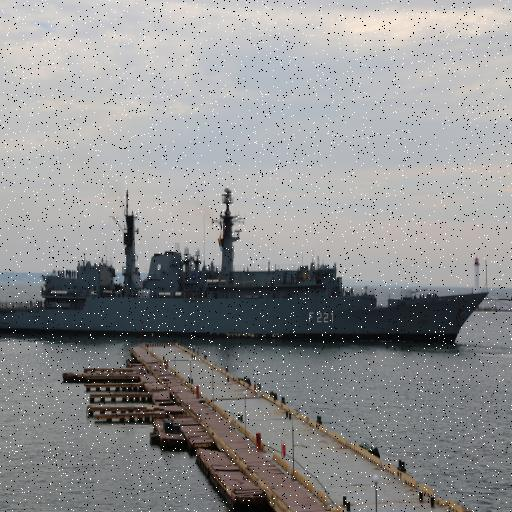Fragata: (1, 185, 493, 344)
